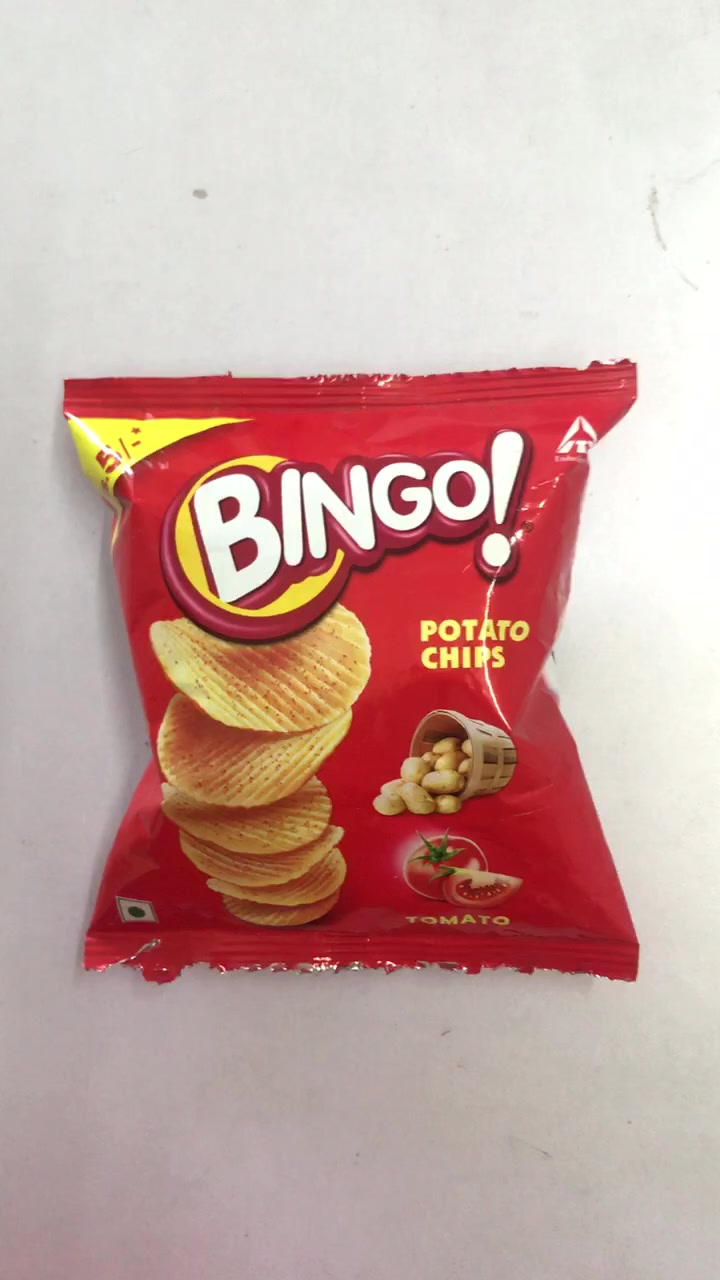Bingo: (69, 377, 641, 975)
